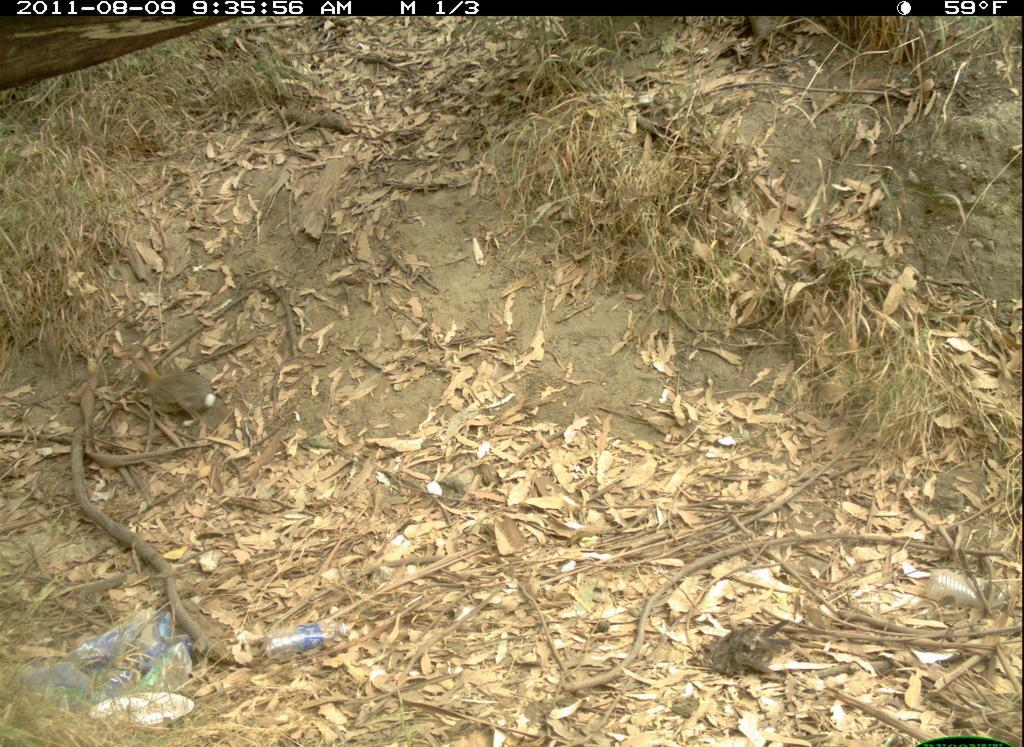rabbit: (116, 340, 245, 429)
